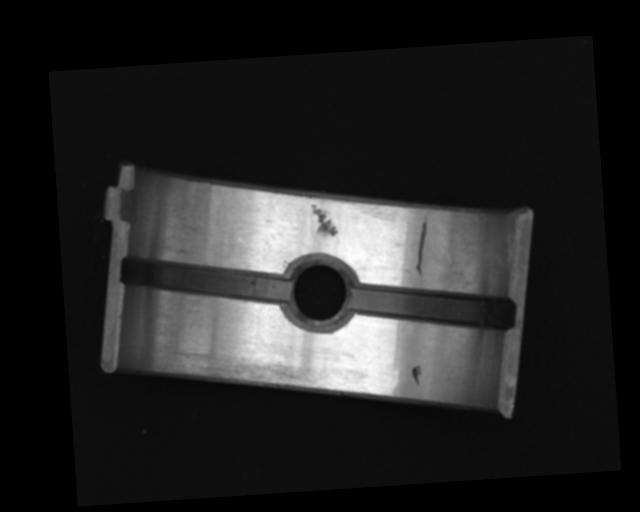bruise: (308, 202, 339, 239), (411, 364, 423, 386)
gap: (119, 247, 292, 315), (349, 277, 515, 338)
hole: (281, 256, 358, 336)
nick: (413, 213, 431, 277)
scratch: (175, 342, 321, 398)
